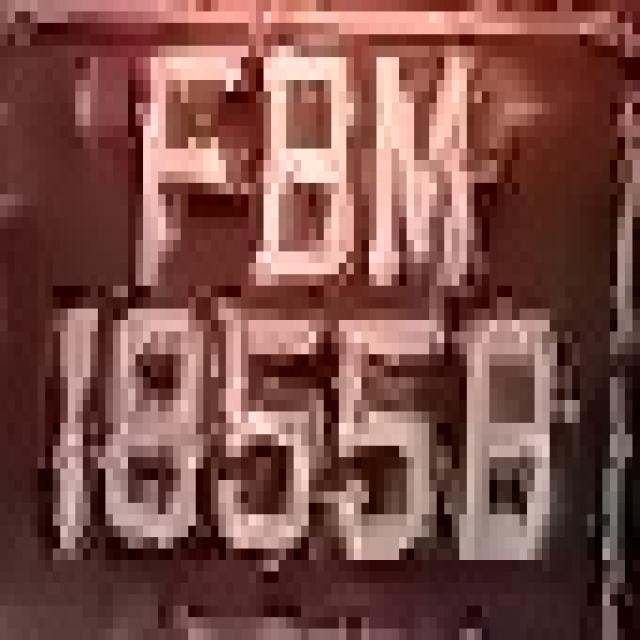1: (46, 251, 106, 560)
5: (324, 274, 436, 594), (204, 297, 316, 583)
8: (98, 251, 203, 560)
B: (444, 297, 565, 594), (241, 35, 361, 332)
F: (128, 11, 248, 286)
M: (354, 34, 482, 309)
